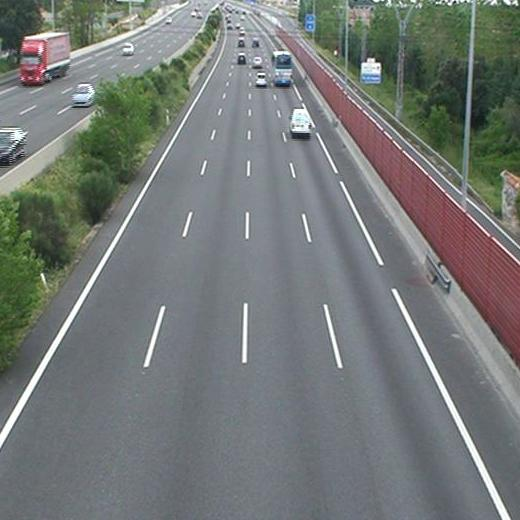bus: (273, 51, 292, 85)
car: (255, 72, 266, 86), (252, 57, 261, 68), (237, 54, 246, 65), (237, 38, 245, 46), (251, 39, 259, 47)
van: (290, 108, 311, 136)
